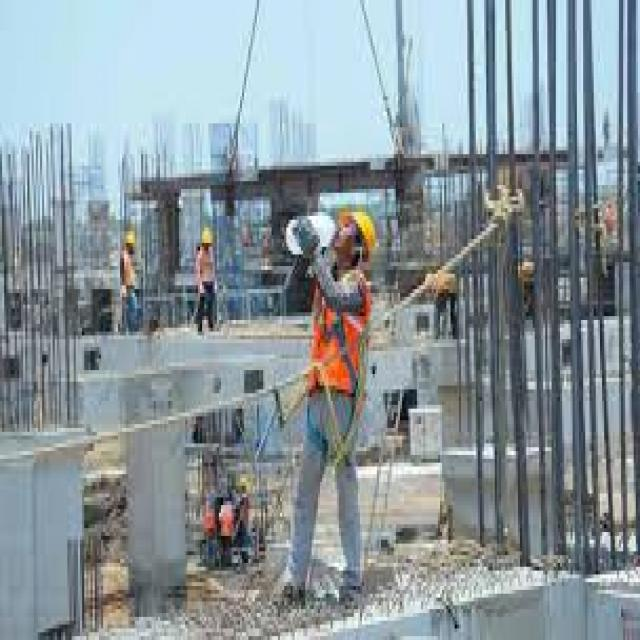Reflective-Jacket: (301, 258, 375, 421), (194, 247, 217, 293)
Safety-Helmet: (333, 193, 385, 270), (198, 220, 217, 254), (122, 223, 139, 254)
